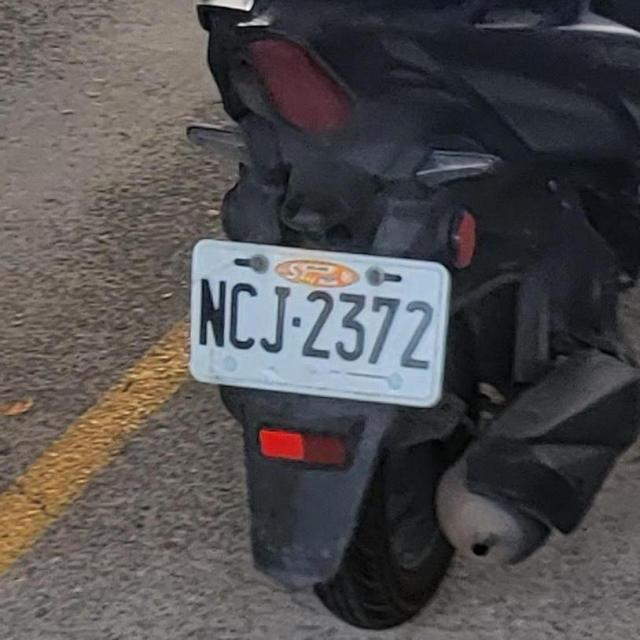W: (175, 229, 460, 412)
